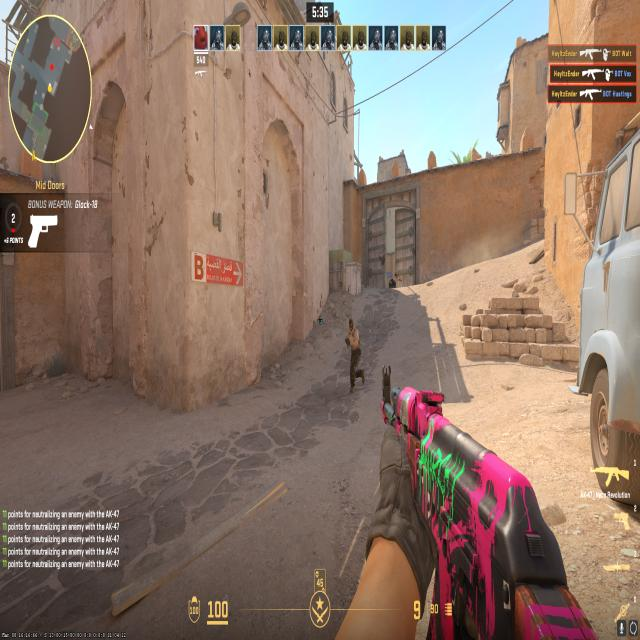t: (339, 309, 367, 396)
